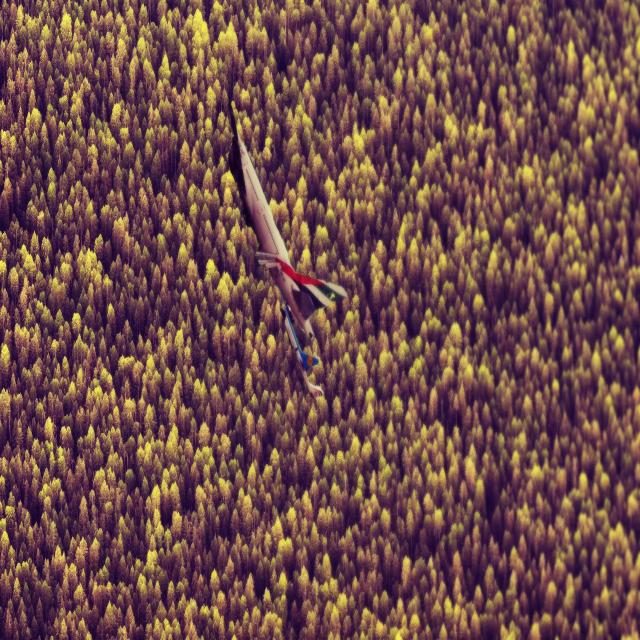airplane: (228, 98, 348, 399), (276, 298, 323, 396)
